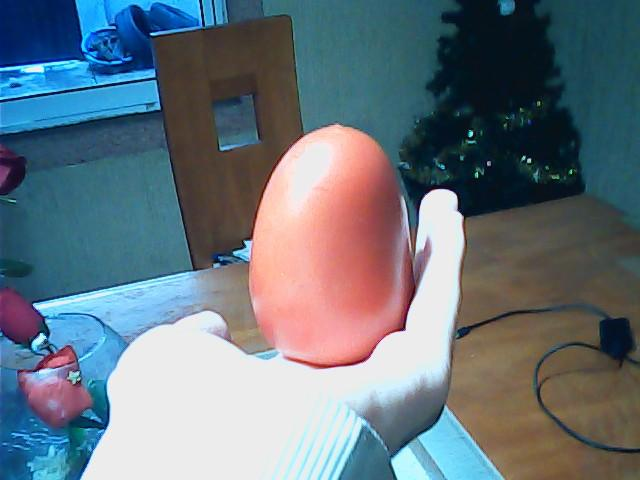maduro: (247, 121, 415, 363)
